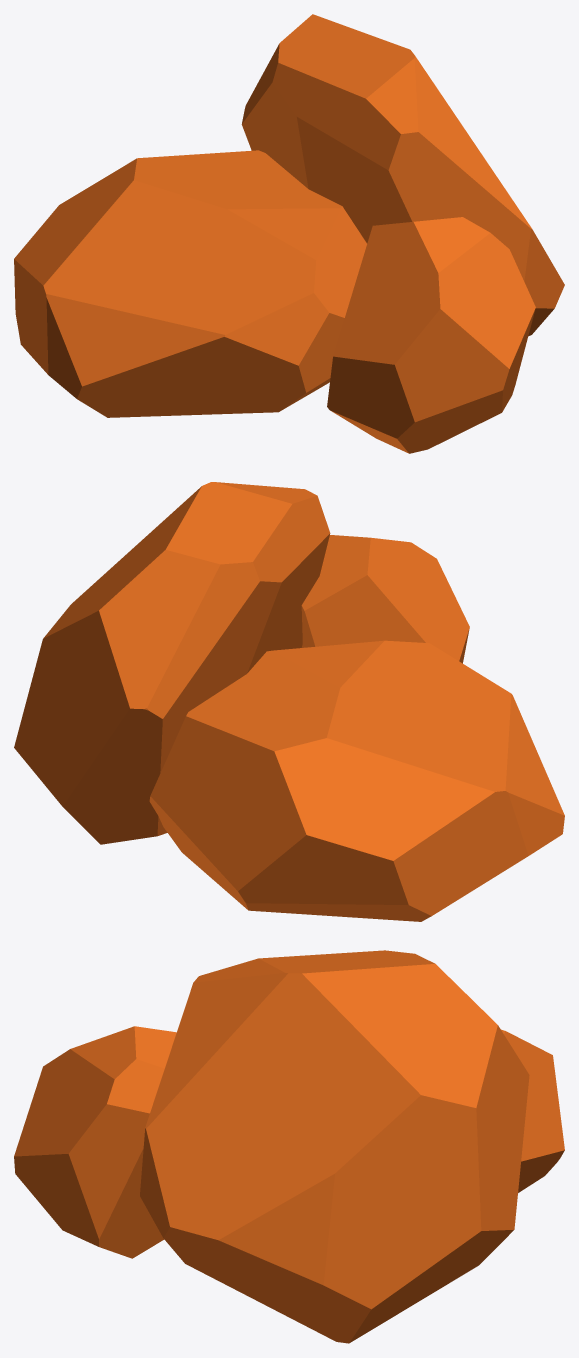
The model's file is Rock06.glb.
3 renders of one model, top to bottom at view 1: azimuth 30°, elevation 25°; view 2: azimuth 150°, elevation 25°; view 3: azimuth 270°, elevation 25°, orthographic. The views are drawn at different scales.
Visible parts, largest first — view 1: Rock_Type2_02_mesh; view 2: Rock_Type2_02_mesh; view 3: Rock_Type2_02_mesh.
Boxes of the visible parts, box(x1,y1,x2,y2) form: Rock_Type2_02_mesh: box(14, 14, 564, 453); Rock_Type2_02_mesh: box(14, 482, 564, 921); Rock_Type2_02_mesh: box(14, 950, 564, 1343).
Bounding box in the file's own units: 1.81 × 1.26 × 1.88.
